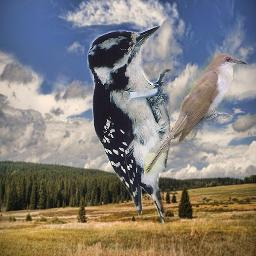Cuckoo: (144, 53, 248, 175)
Woodpecker: (87, 26, 175, 228)
